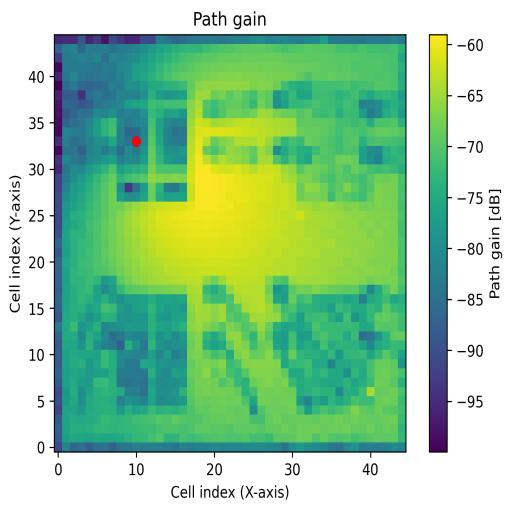Concrete: (296, 80, 375, 202)
Glass: (117, 81, 188, 202)
Metal: (289, 286, 376, 405)
Wood: (117, 293, 187, 415)
